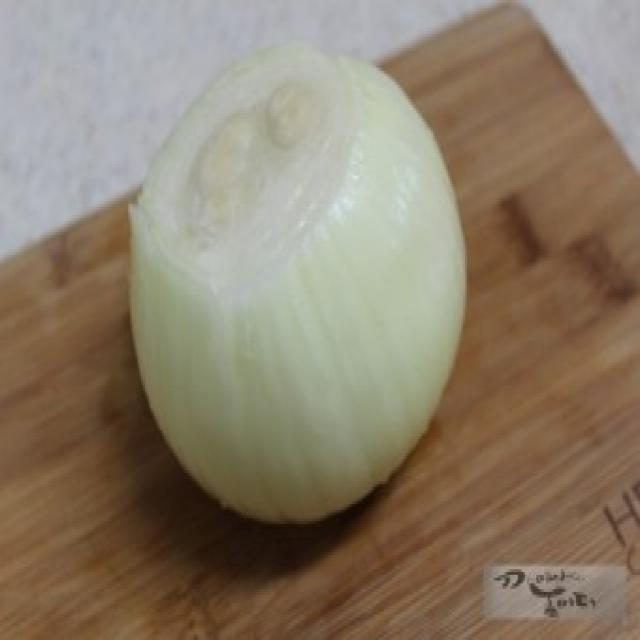onion: (121, 22, 470, 543)
